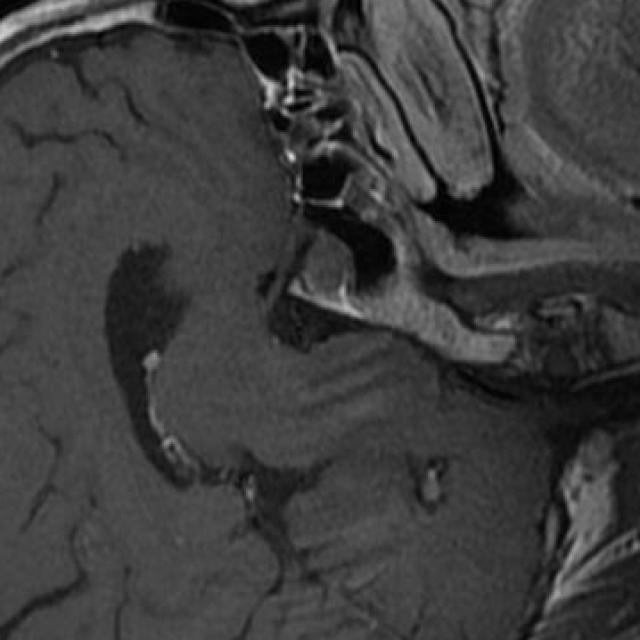pituitary: (291, 230, 357, 312)
